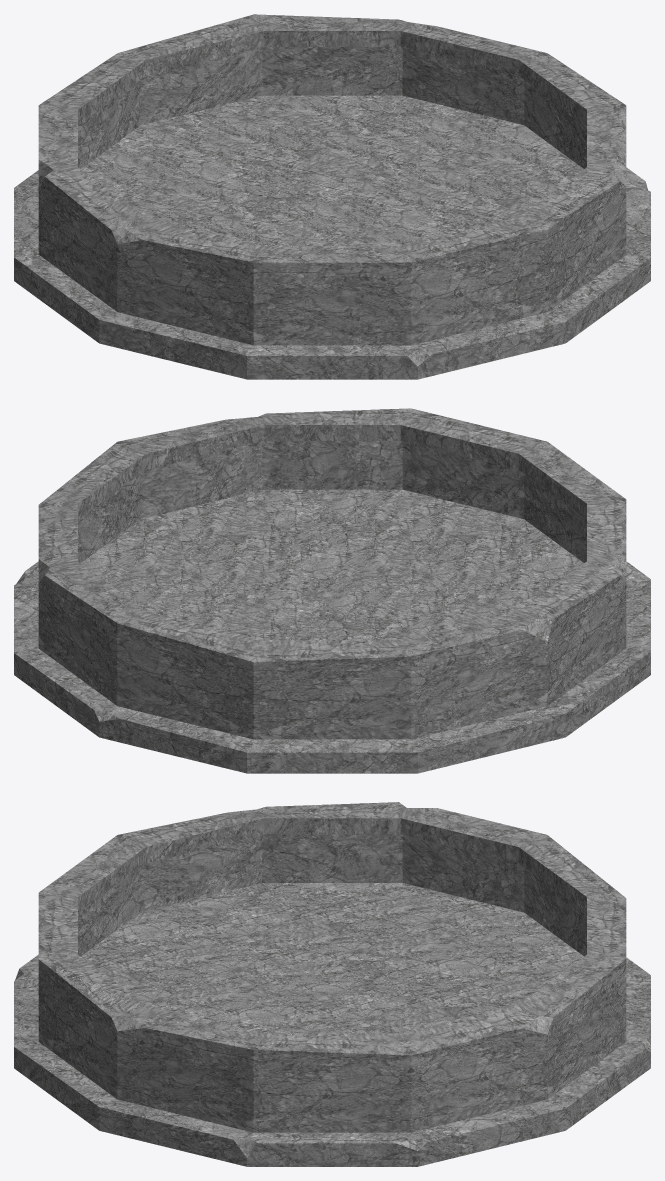
File: materials_3_fountain_0.fbx
3 renders of one model, top to bottom at view 1: azimuth 30°, elevation 25°; view 2: azimuth 150°, elevation 25°; view 3: azimuth 270°, elevation 25°, orthographic.
Parts seen in each view (by area): view 1: materials_3_fountain_0; view 2: materials_3_fountain_0; view 3: materials_3_fountain_0.
Part boxes in pixels (x1,y1,x2,y2): materials_3_fountain_0: (14,14,650,379); materials_3_fountain_0: (14,408,650,773); materials_3_fountain_0: (14,802,650,1166).
Size of the model in its own units: 509 by 93.92 by 509.
